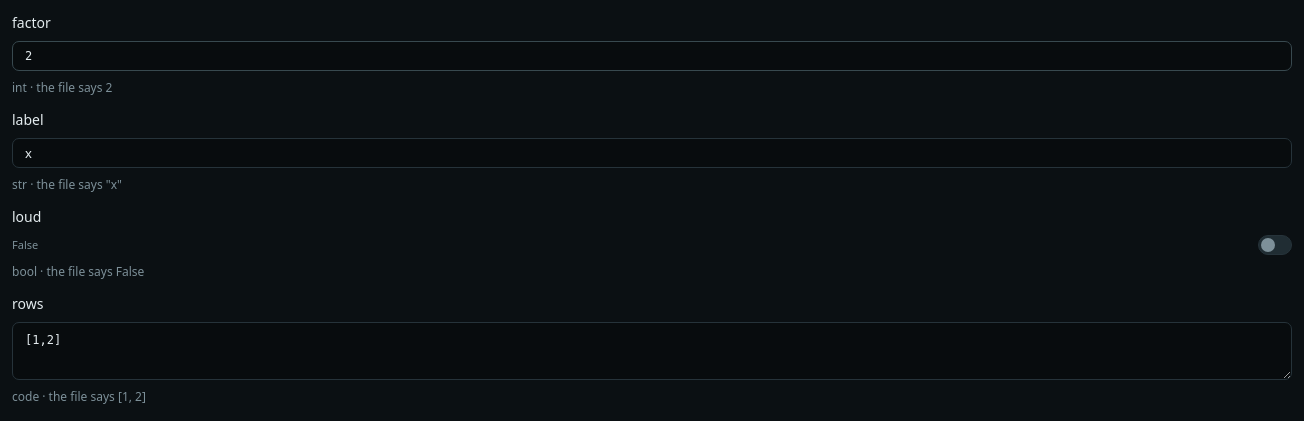
Test: a field per parameter, typed from its default › refuses a code field that is not a literal
This screenshot has width=1304, height=421.
Replace the text in the text box labelled "rows" with "open()" at point(652, 351), box 12,322 -> 1292,380
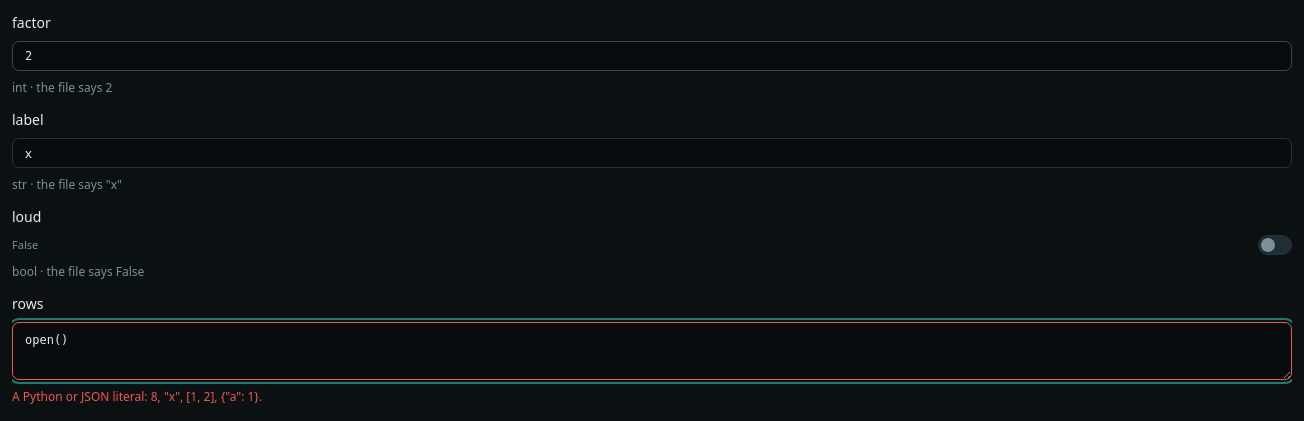
expect the text "A Python or JSON literal: 8, \"x\", [1, 2], {\"a\": 1}." is shown: met, box 12,388 -> 262,405
